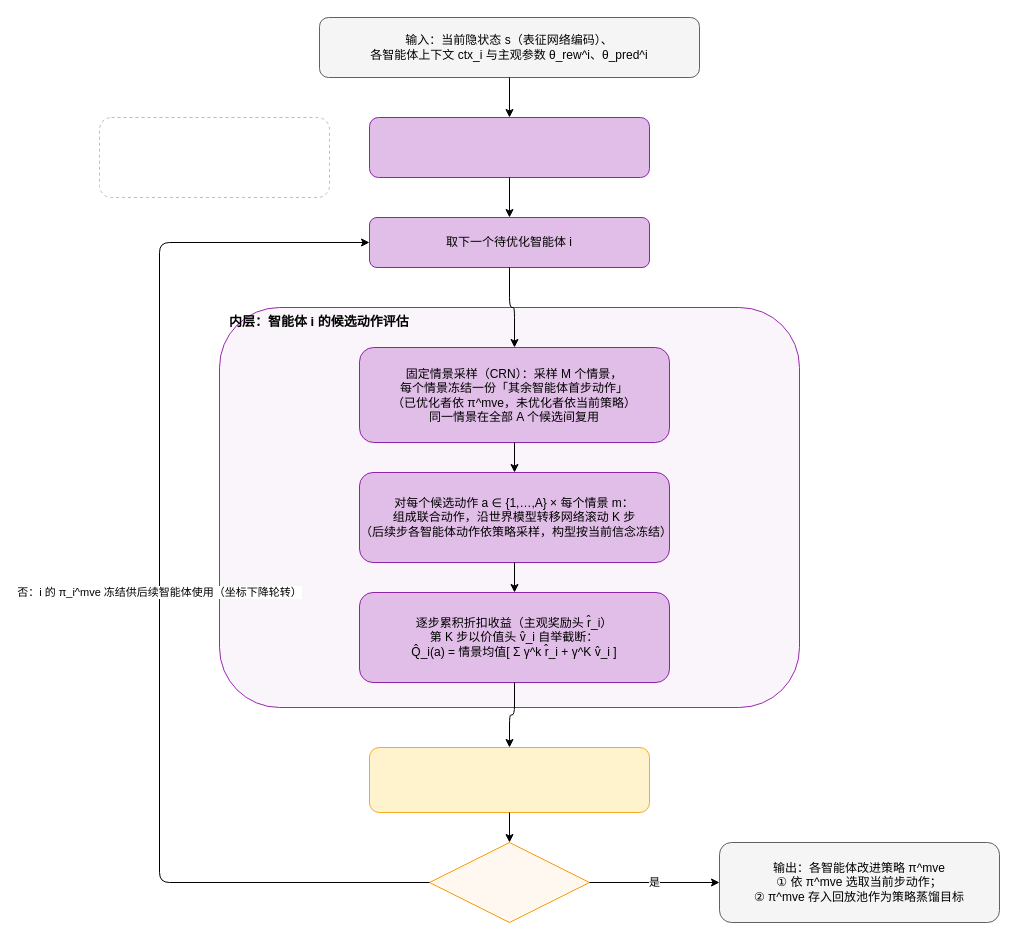
The diagram is 1017 pixels wide and 940 high, and some of its shapes have lost their labels. The centre of each missing label's shape, as x and y in pixels:
"A 个候选得分组内标准化（z-score）， 经温度 softmax 得改进策略 π_i^mve" belongs at (x=509, y=779).
"以随机顺序排列 N 个智能体 （坐标下降外循环开始）" belongs at (x=509, y=147).
"全部智能体 已优化？" belongs at (x=509, y=882).
"复杂度：每步仅评估 N×A 个候选 （对比联合空间穷举 A^N） 当前实现 K=5，每候选 8 个情景" belongs at (x=214, y=157).
